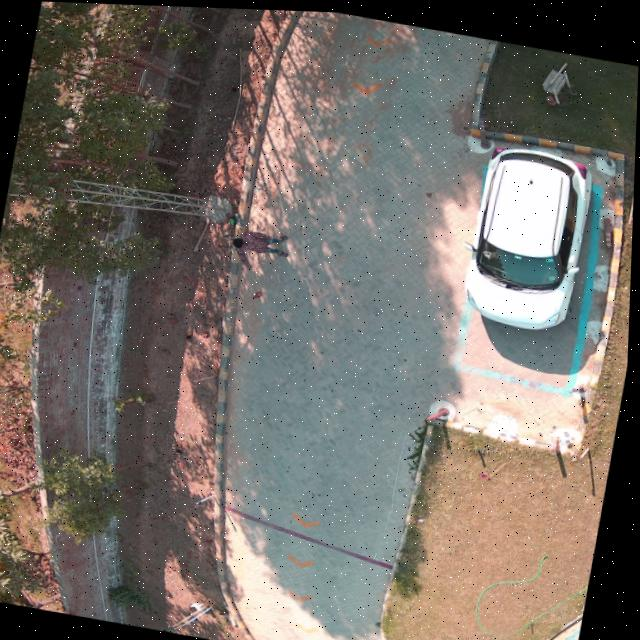car: (467, 143, 594, 325)
